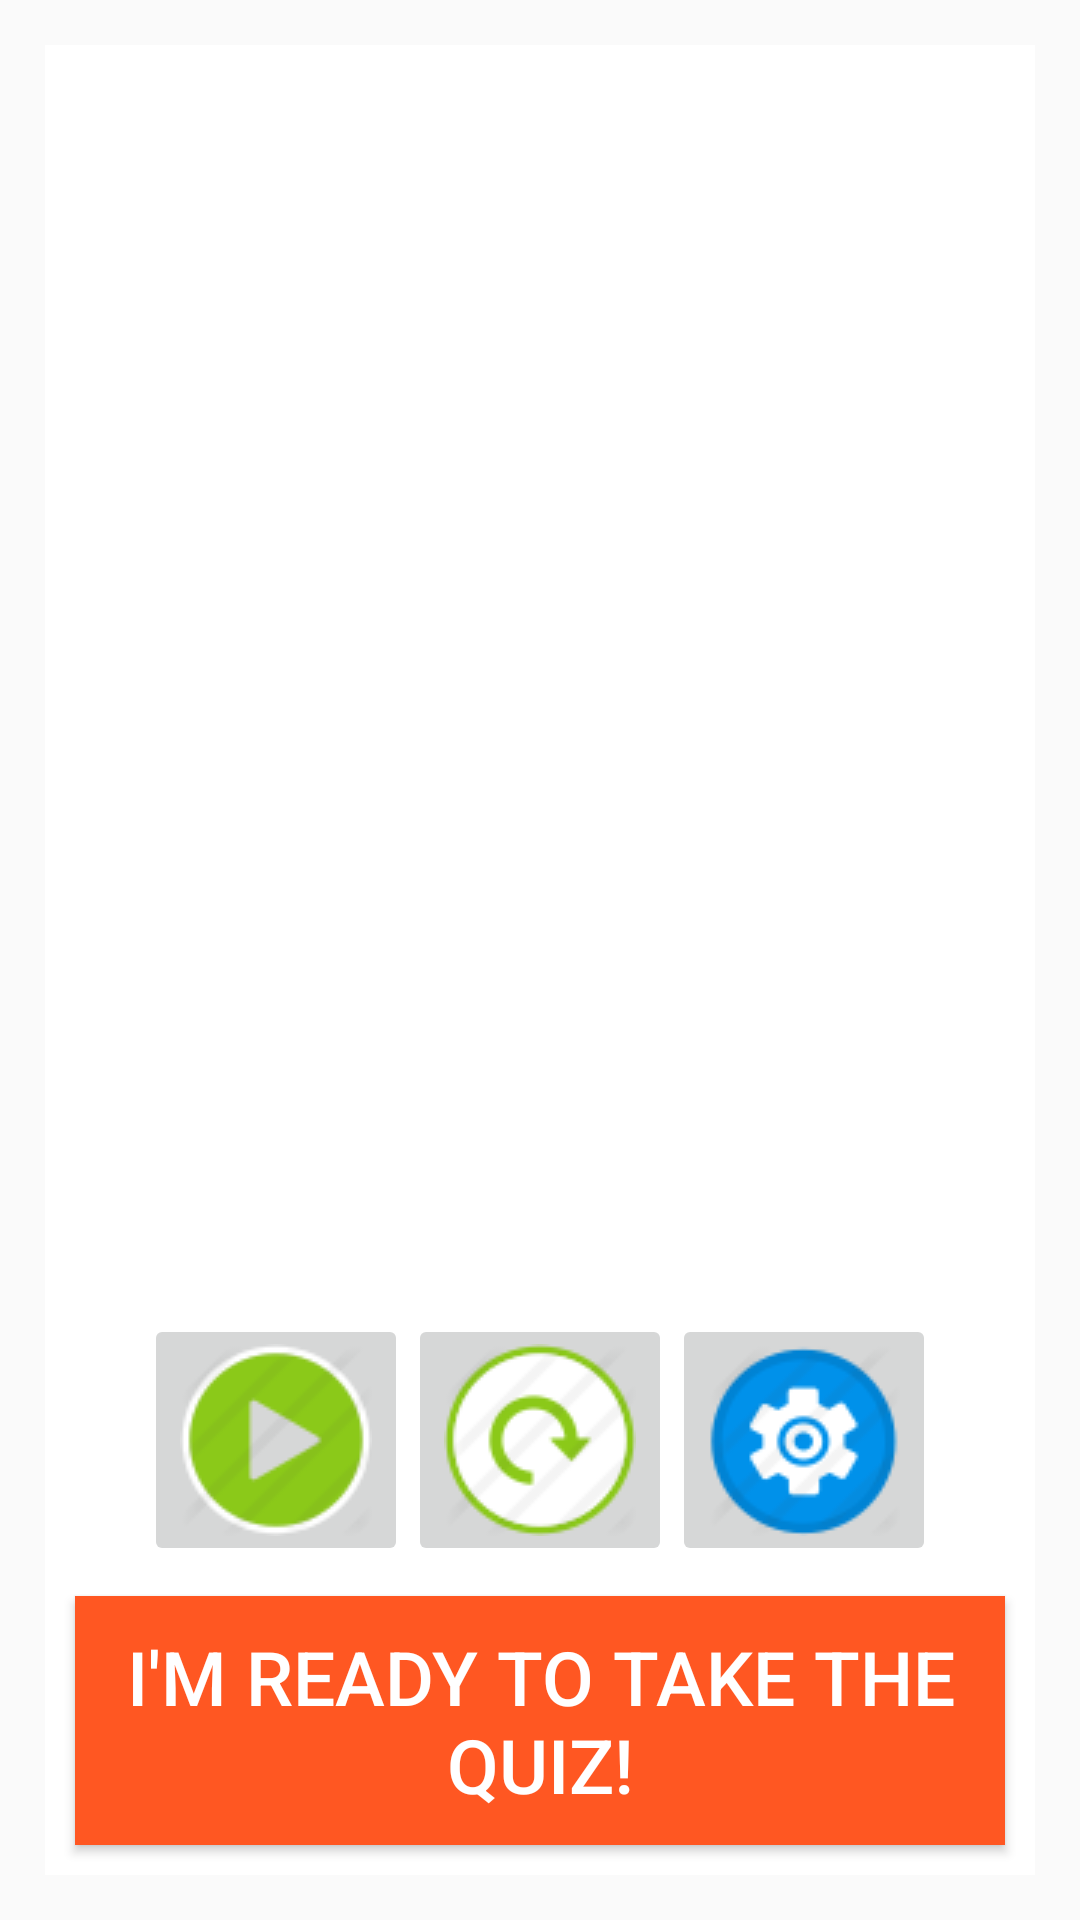

Icon bounding boxes for this 1080*1920 phone screenshot, format [x1=x1, y1=y1, x2=x2, y2=y2]:
gear: [x1=684, y1=1332, x2=924, y2=1548]
play: [x1=156, y1=1332, x2=396, y2=1548]
replay: [x1=420, y1=1332, x2=660, y2=1548]
